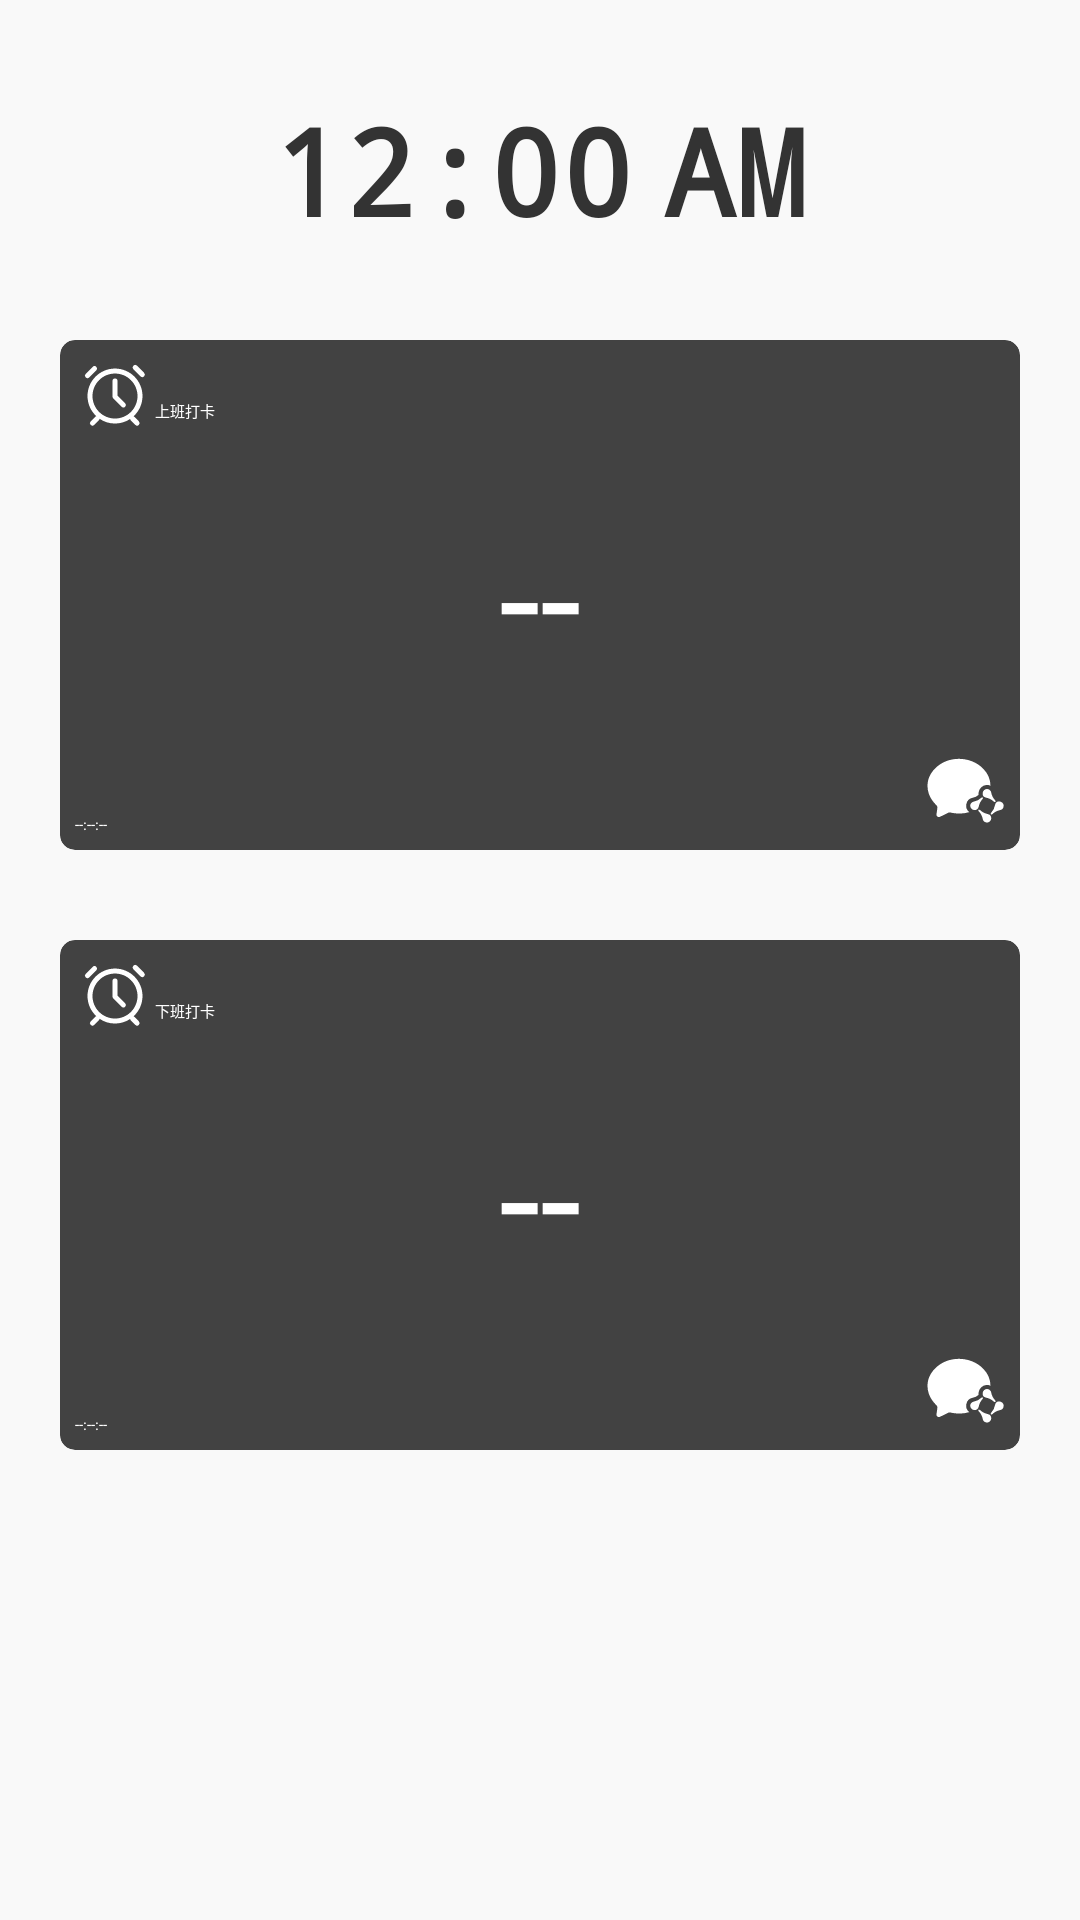

Icon click points for this 1080x1920 phone screenshot, format (x=x, y=y):
clock: (x=115, y=395), (x=115, y=995)
